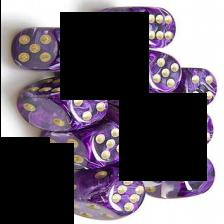purple: (16, 77, 106, 131), (58, 167, 144, 221), (38, 121, 127, 170), (11, 27, 100, 72), (54, 48, 140, 90), (91, 7, 175, 48), (145, 152, 214, 199), (111, 139, 176, 187), (145, 109, 213, 150), (103, 94, 163, 139), (130, 49, 181, 97), (156, 68, 216, 108)
